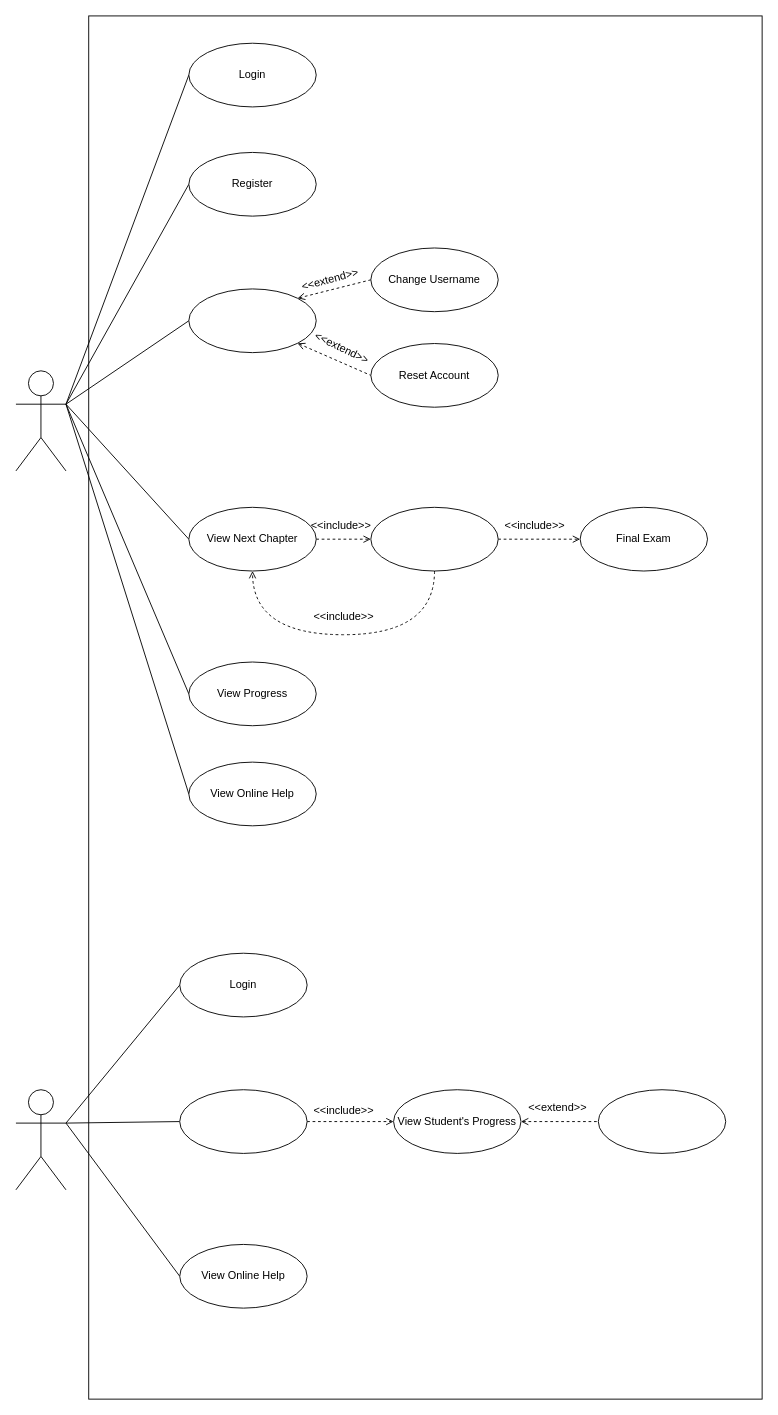
Image size: 778x1415. Some labels were removed from this diagram. The shapes that lost their labels are listed below. From the top down, each one's box as (x1, y1, x2, y2) in pixels, then its label:
(188, 288, 316, 353): Change Settings
(15, 370, 66, 471): Student
(370, 506, 498, 571): Do Exercises
(15, 1089, 66, 1190): Professor
(179, 1089, 307, 1153): Search for Student
(597, 1089, 726, 1153): Modify Data
